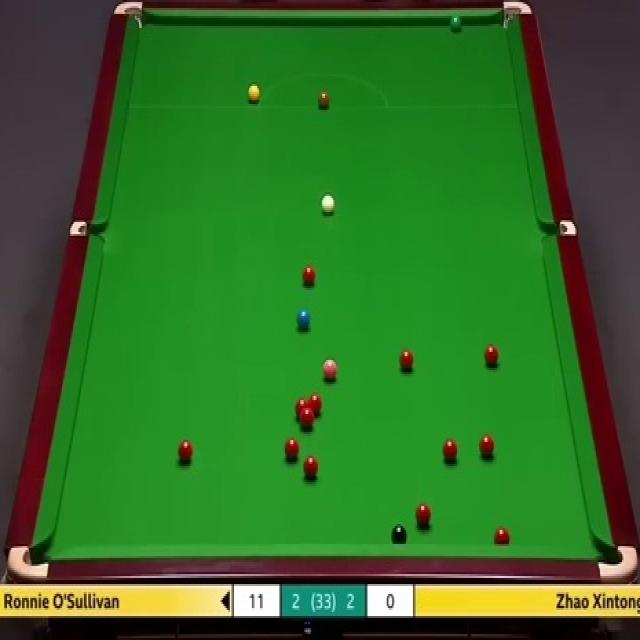black-ball: (389, 524, 407, 546)
blue-ball: (295, 308, 311, 333)
brown-ball: (316, 88, 330, 111)
green-ball: (449, 13, 464, 32)
pink-ball: (323, 354, 338, 382)
red-ball: (398, 347, 416, 375), (302, 455, 319, 483), (177, 439, 194, 466), (414, 503, 431, 529), (478, 433, 495, 459), (286, 436, 302, 461), (302, 266, 318, 290), (442, 439, 458, 463), (484, 343, 499, 368), (308, 394, 322, 418), (494, 526, 510, 546), (301, 410, 314, 430), (295, 398, 308, 418)
white-ball: (319, 192, 337, 220)
yellow-ball: (246, 83, 260, 103)
